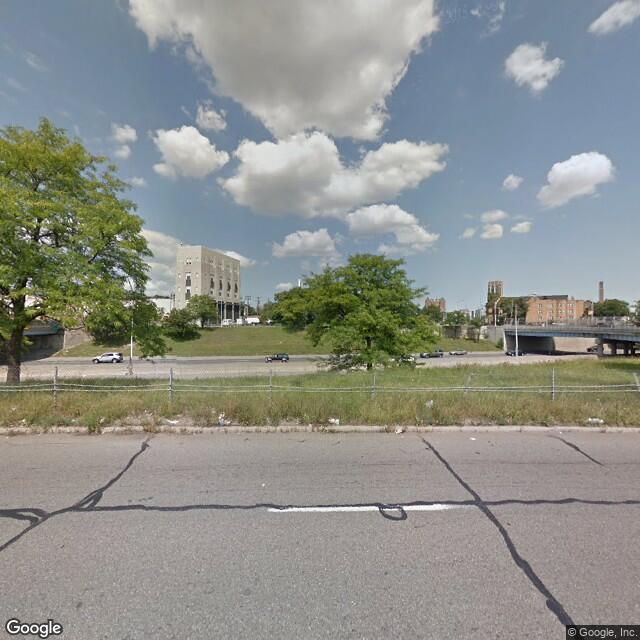litter: (588, 417, 608, 430), (216, 412, 231, 426), (165, 415, 180, 427), (392, 423, 404, 434), (468, 431, 479, 442), (423, 395, 433, 407), (100, 414, 110, 424), (331, 416, 340, 424), (17, 417, 27, 423), (70, 416, 77, 422)
